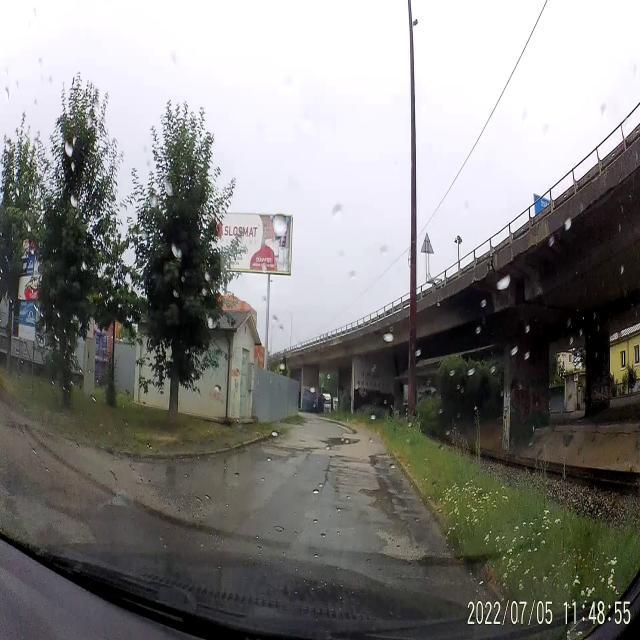Pothole: (358, 474, 412, 524), (278, 444, 318, 458), (366, 450, 388, 472)
